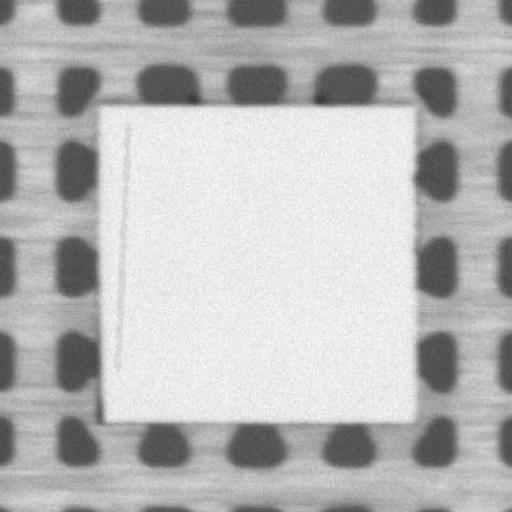DIE_CRACK: (116, 123, 127, 370)
